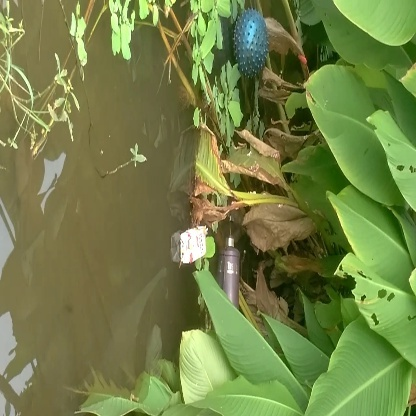ball: (222, 8, 281, 87)
milk-box: (174, 220, 211, 265)
